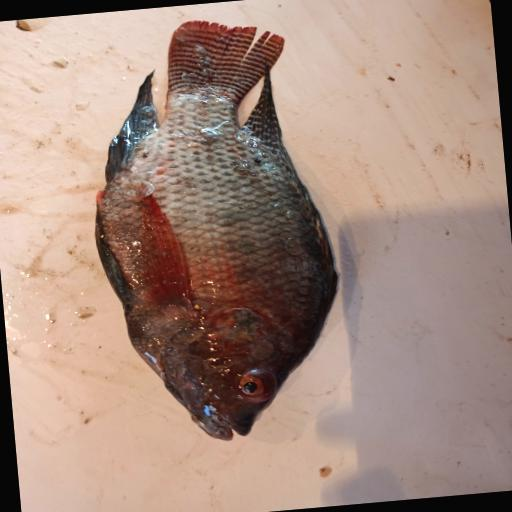Tilapia: (77, 10, 353, 451)
